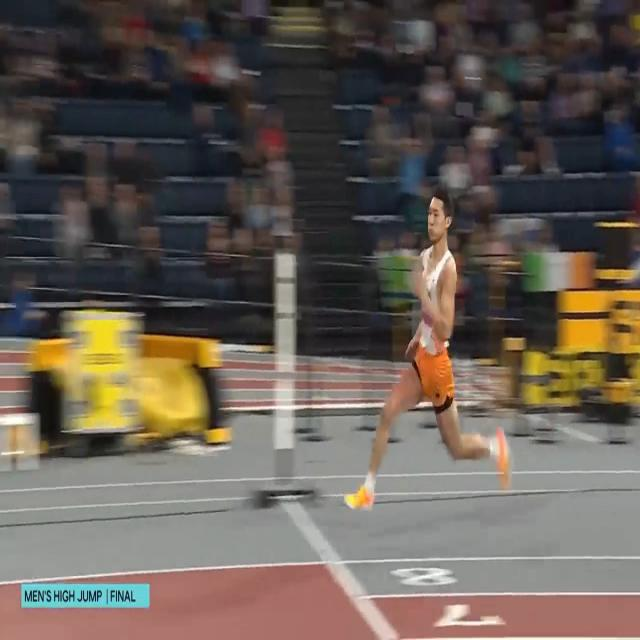run: (341, 186, 513, 514)
